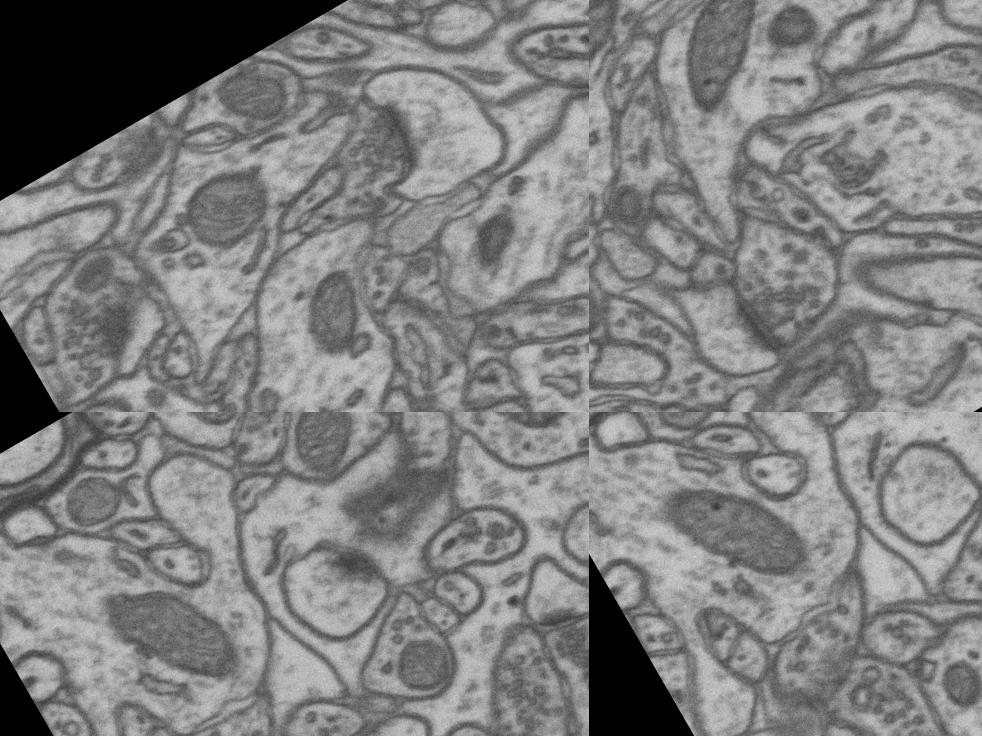mitochondria: (93, 549, 257, 722), (680, 456, 844, 629), (641, 0, 801, 127), (164, 146, 294, 270), (276, 255, 392, 370), (197, 44, 308, 148), (45, 450, 144, 545), (264, 412, 380, 493), (372, 623, 466, 713), (449, 200, 539, 285), (447, 412, 589, 463), (49, 235, 138, 316), (768, 638, 851, 722), (753, 0, 833, 66), (589, 0, 647, 89), (592, 172, 659, 239), (926, 649, 982, 729), (632, 412, 731, 452), (165, 412, 261, 445), (589, 252, 618, 357), (959, 530, 982, 620)
